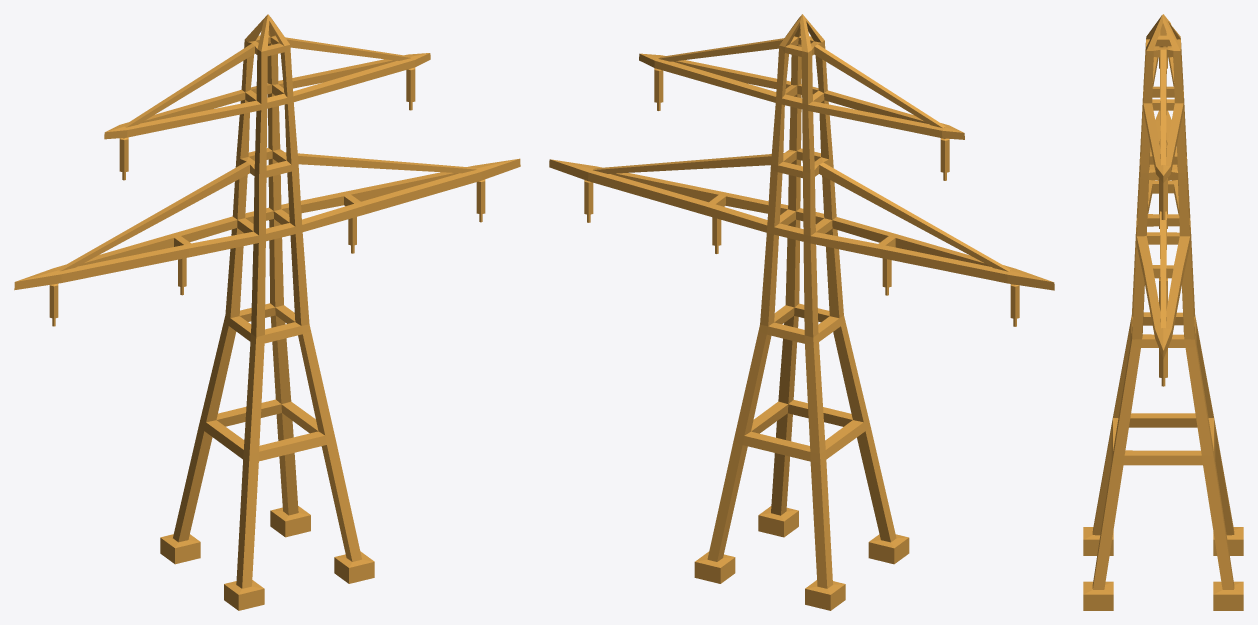
The model's file is power_line_pole.glb.
3 renders of one model, left to right at view 1: azimuth 30°, elevation 25°; view 2: azimuth 150°, elevation 25°; view 3: azimuth 270°, elevation 25°, orthographic. The views are drawn at different scales.
Visible parts, largest first — view 1: power_line_pole; view 2: power_line_pole; view 3: power_line_pole.
Part boxes in pixels (<box>): power_line_pole: <box>14,14,520,610</box>; power_line_pole: <box>549,14,1054,610</box>; power_line_pole: <box>1083,14,1243,610</box>.
Bounding box in the file's own units: 13.77 × 14.35 × 3.7.
